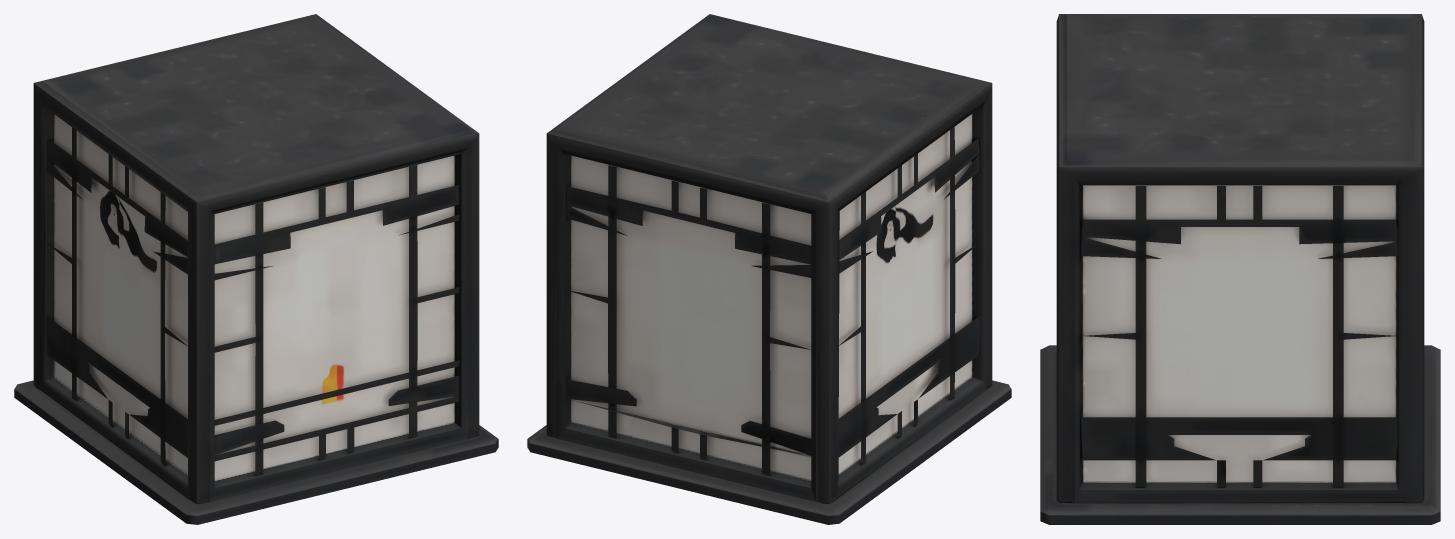
File: linterna.obj
3 renders of one model, left to right at view 1: azimuth 30°, elevation 25°; view 2: azimuth 150°, elevation 25°; view 3: azimuth 270°, elevation 25°, orthographic. The views are drawn at different scales.
Visible parts, largest first — view 1: model; view 2: model; view 3: model.
Part boxes in pixels (x1,y1,x2,y2): model: [14, 14, 498, 524]; model: [527, 14, 1011, 524]; model: [1040, 14, 1440, 524].
Size of the model in its own units: 1.9 by 1.84 by 1.9.
1 material, 1 textured.
